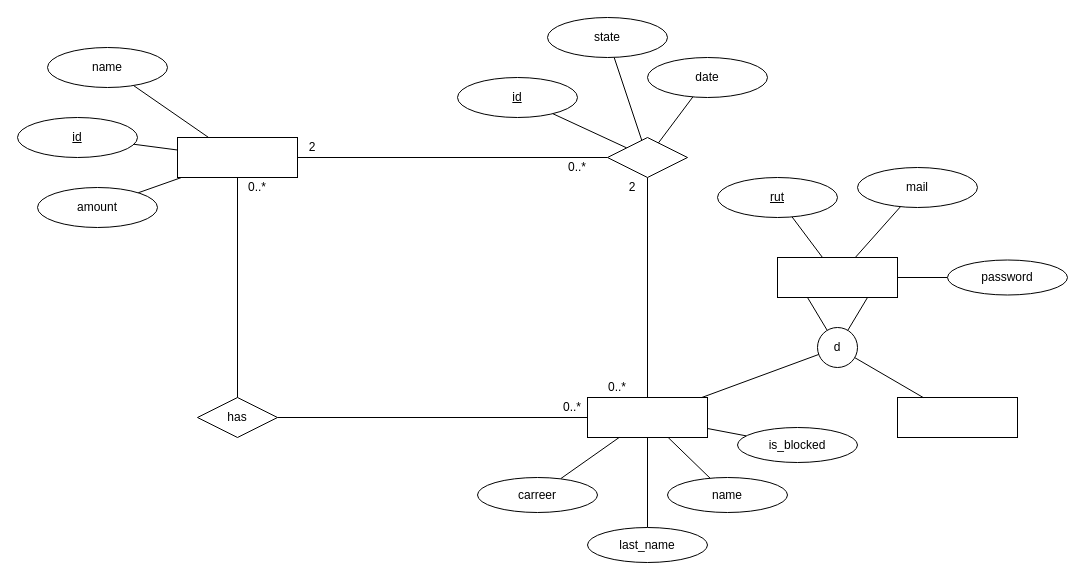
This 1085x580 diagram has some shape labels left out. Each missing label, with the centre of its shape:
Account: the point at 837,277
AdminAccount: the point at 957,417
order: the point at 647,157
Share: the point at 237,157
UserAccount: the point at 647,417
